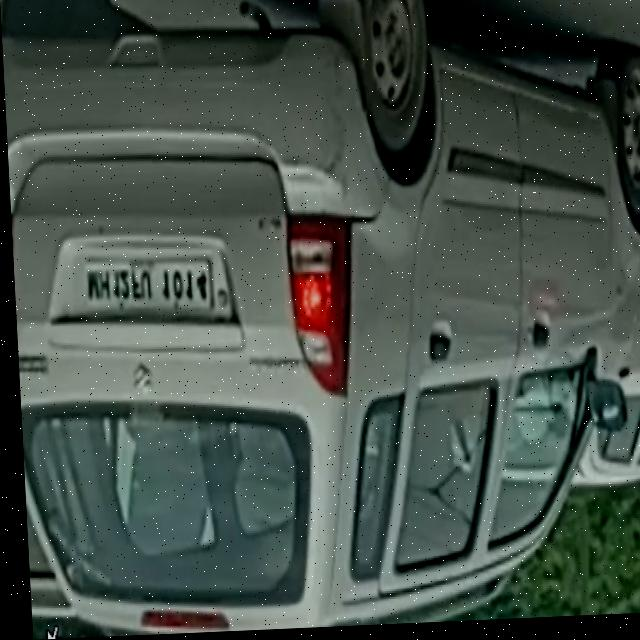plate: (76, 247, 217, 325)
